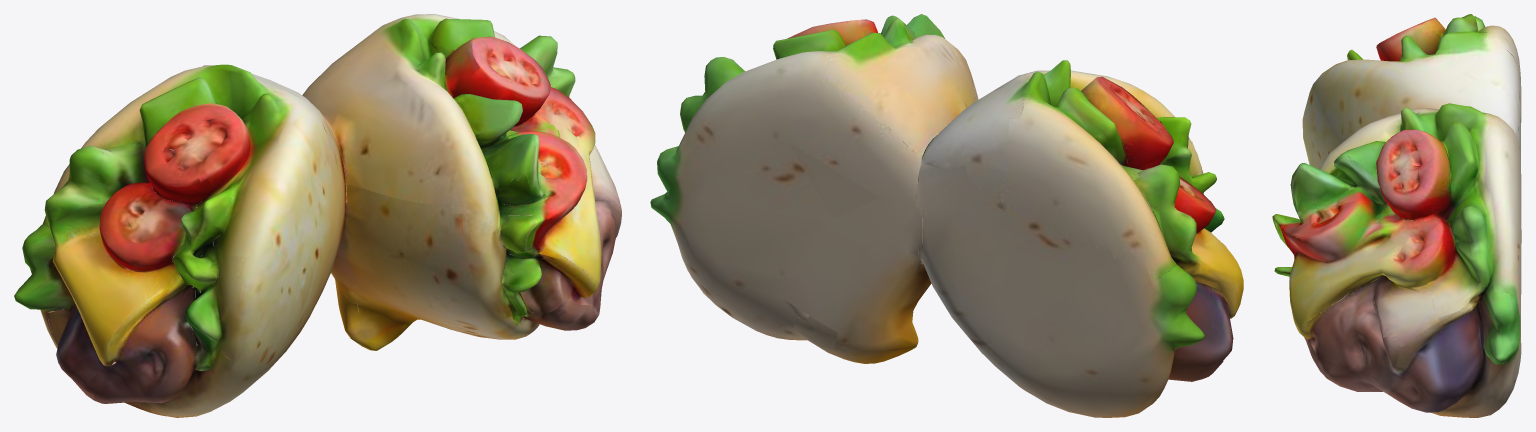
File: taco.glb
The picture shows the model from 3 angles, left to right: view 1: azimuth 30°, elevation 25°; view 2: azimuth 150°, elevation 25°; view 3: azimuth 270°, elevation 25°; orthographic projection. The views are drawn at different scales.
Visible parts, largest first — view 1: taco; view 2: taco; view 3: taco.
Boxes of the visible parts, <box> form: taco: <box>14,14,621,417</box>; taco: <box>650,14,1243,417</box>; taco: <box>1272,14,1521,417</box>.
Bounding box in the file's own units: 0.42 × 0.2258 × 0.1861.
1 material, 1 textured.
